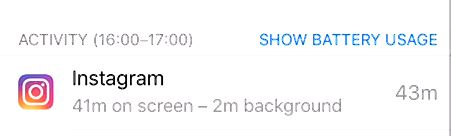activity: (13, 27, 201, 56)
app: (12, 65, 443, 123)
